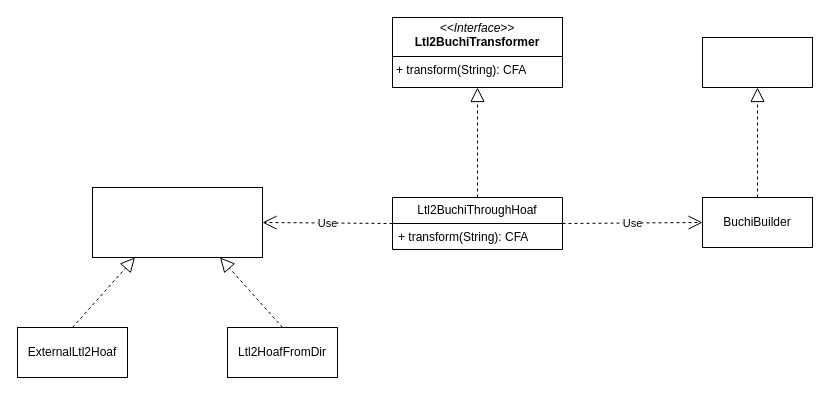
Some shapes in this 830 by 395 pixel diagram are drawn without their labels. The centre of each missing label's shape, as x and y in pixels:
<<Interface>> Ltl2Hoaf + transform(String): String: the point at 177,222
«interface» HOAConsumer: the point at 757,62
